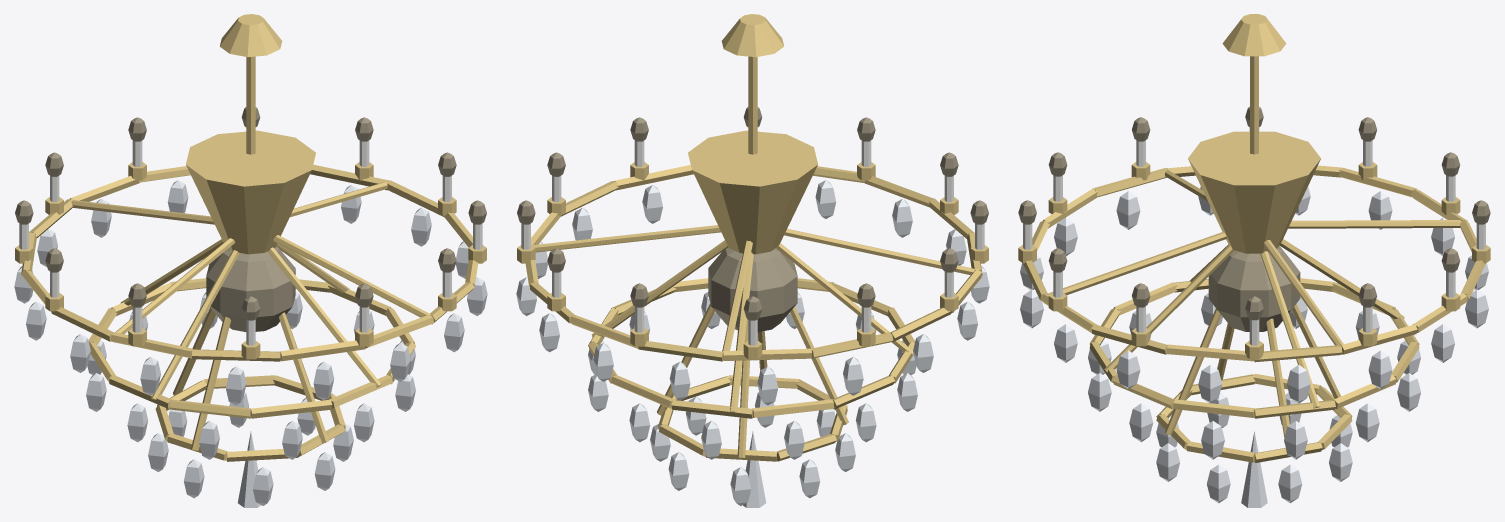
File: HJ_Arana.fbx
3 views of the same model, side by side, from view 1: azimuth 30°, elevation 25°; view 2: azimuth 150°, elevation 25°; view 3: azimuth 270°, elevation 25° (orthographic).
Visible parts, largest first — view 1: HJ_Arana; view 2: HJ_Arana; view 3: HJ_Arana.
Part boxes in pixels (bbox=[...]): HJ_Arana: bbox=[14, 14, 487, 507]; HJ_Arana: bbox=[516, 14, 989, 507]; HJ_Arana: bbox=[1018, 14, 1490, 507].
Size of the model in its own units: 1.76 by 2 by 1.77.
